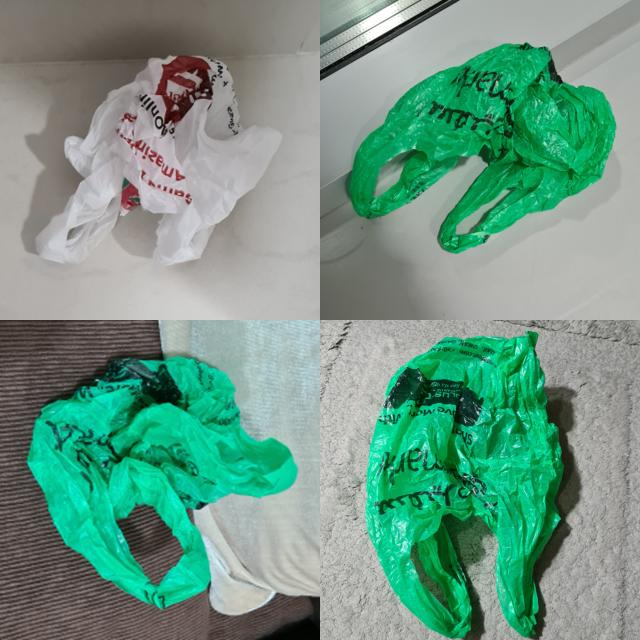Single-layer Plastic: (28, 358, 298, 608), (366, 331, 564, 639), (349, 44, 616, 252), (36, 56, 282, 265)
